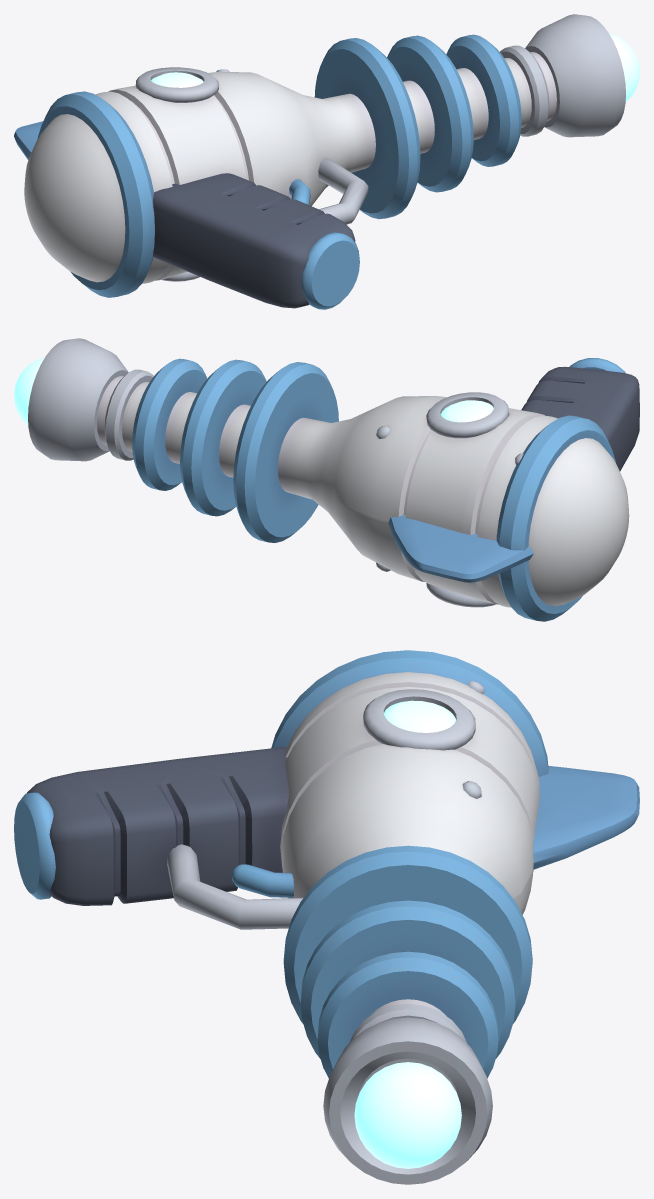
The model's file is tactical-rifle-blaster.glb.
3 renders of one model, top to bottom at view 1: azimuth 30°, elevation 25°; view 2: azimuth 150°, elevation 25°; view 3: azimuth 270°, elevation 25°, orthographic. The views are drawn at different scales.
Parts seen in each view (by area): view 1: laser-blaster_body, laser-blaster_muzzle_glow, laser-blaster_power_window_glow; view 2: laser-blaster_body, laser-blaster_muzzle_glow, laser-blaster_power_window_glow; view 3: laser-blaster_body, laser-blaster_muzzle_glow, laser-blaster_power_window_glow.
Boxes of the visible parts, left/top/right/bottom form: laser-blaster_body: left=14, top=14, right=625, bottom=309; laser-blaster_muzzle_glow: left=609, top=33, right=639, bottom=101; laser-blaster_power_window_glow: left=151, top=72, right=203, bottom=87; laser-blaster_body: left=28, top=338, right=639, bottom=621; laser-blaster_muzzle_glow: left=14, top=357, right=44, bottom=425; laser-blaster_power_window_glow: left=441, top=400, right=493, bottom=422; laser-blaster_body: left=14, top=650, right=639, bottom=1184; laser-blaster_muzzle_glow: left=354, top=1062, right=461, bottom=1168; laser-blaster_power_window_glow: left=384, top=700, right=455, bottom=732.
Size of the model in its own units: 0.331 by 0.1009 by 0.2214.
3 materials, 1 textured.
